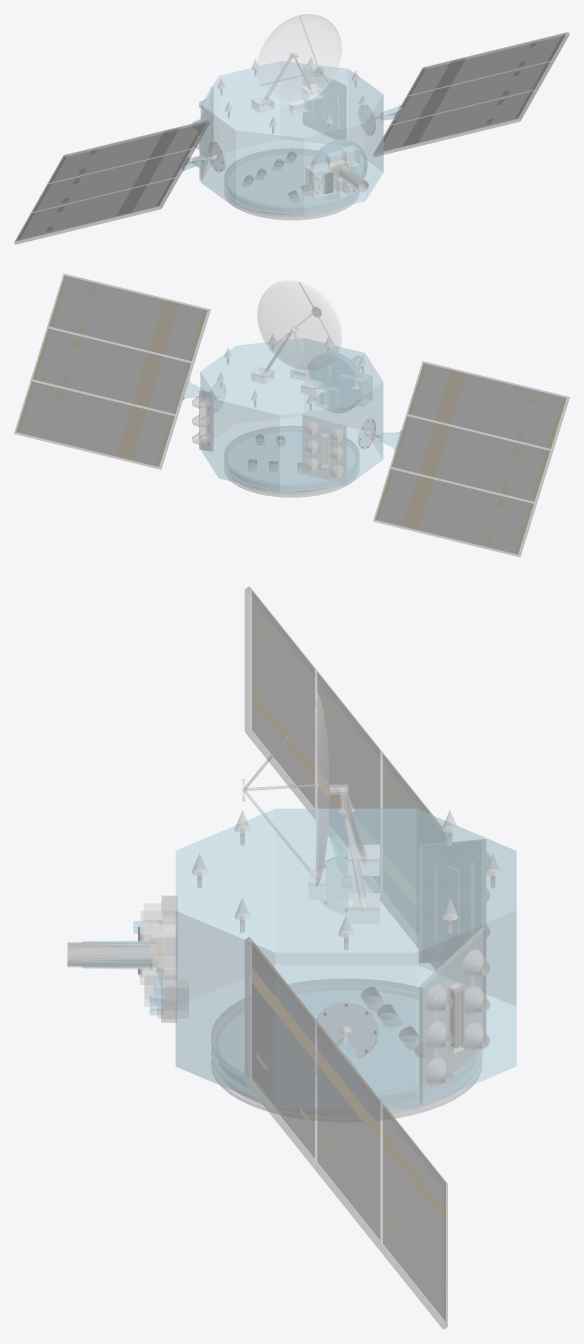
The model's file is DSCOVR-Triana.glb.
3 renders of one model, top to bottom at view 1: azimuth 30°, elevation 25°; view 2: azimuth 150°, elevation 25°; view 3: azimuth 270°, elevation 25°, orthographic. The views are drawn at different scales.
Visible parts, largest first — view 1: mesh_0_7, mesh_0_16, mesh_0_17, mesh_0_5, mesh_0_13, mesh_0_18, mesh_0, mesh_0_15, mesh_0_1, mesh_0_8, mesh_0_11, mesh_0_6 (+1 smaller); view 2: mesh_0_7, mesh_0_10, mesh_0_16, mesh_0_18, mesh_0_9, mesh_0_5, mesh_0_13, mesh_0_17, mesh_0, mesh_0_15, mesh_0_1, mesh_0_6 (+2 smaller); view 3: mesh_0_17, mesh_0_7, mesh_0_16, mesh_0_10, mesh_0, mesh_0_18, mesh_0_13, mesh_0_1, mesh_0_9, mesh_0_5, mesh_0_6, mesh_0_2 (+2 smaller).
Part boxes in pixels (box(x1,y1,x2,y2)): mesh_0_7: box(14, 32, 569, 244); mesh_0_16: box(201, 61, 382, 215); mesh_0_17: box(201, 68, 382, 215); mesh_0_5: box(257, 14, 341, 111); mesh_0_13: box(224, 148, 359, 219); mesh_0_18: box(201, 68, 383, 199); mesh_0: box(193, 65, 380, 200); mesh_0_15: box(304, 124, 367, 215); mesh_0_1: box(199, 84, 359, 198); mesh_0_8: box(182, 105, 402, 194); mesh_0_11: box(208, 126, 367, 197); mesh_0_6: box(260, 16, 329, 105); mesh_0_7: box(14, 274, 569, 556); mesh_0_10: box(17, 276, 565, 553); mesh_0_16: box(201, 338, 382, 492); mesh_0_18: box(219, 343, 347, 492); mesh_0_9: box(16, 276, 565, 553); mesh_0_5: box(257, 280, 341, 389); mesh_0_13: box(224, 426, 359, 497); mesh_0_17: box(200, 347, 382, 484); mesh_0: box(192, 342, 381, 484); mesh_0_15: box(304, 347, 364, 428); mesh_0_1: box(192, 359, 372, 478); mesh_0_6: box(261, 282, 337, 390); mesh_0_17: box(176, 809, 516, 1108); mesh_0_7: box(245, 586, 447, 1329); mesh_0_16: box(176, 809, 516, 1107); mesh_0_10: box(252, 591, 445, 1320); mesh_0: box(67, 808, 500, 1104); mesh_0_18: box(176, 809, 515, 1101); mesh_0_13: box(211, 978, 481, 1120); mesh_0_1: box(140, 845, 489, 1082); mesh_0_9: box(252, 591, 445, 1321); mesh_0_5: box(316, 692, 347, 906); mesh_0_6: box(243, 701, 368, 912); mesh_0_2: box(192, 779, 500, 1038).
Size of the model in its own units: 99.41 by 35.98 by 38.27.
